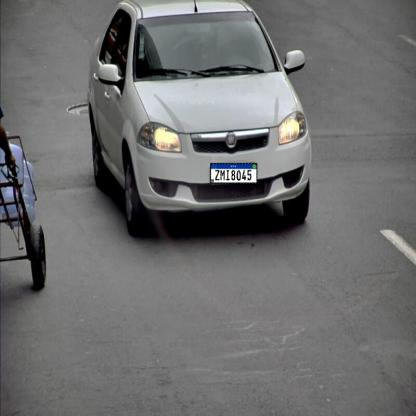PlacaM: (210, 163, 257, 184)
